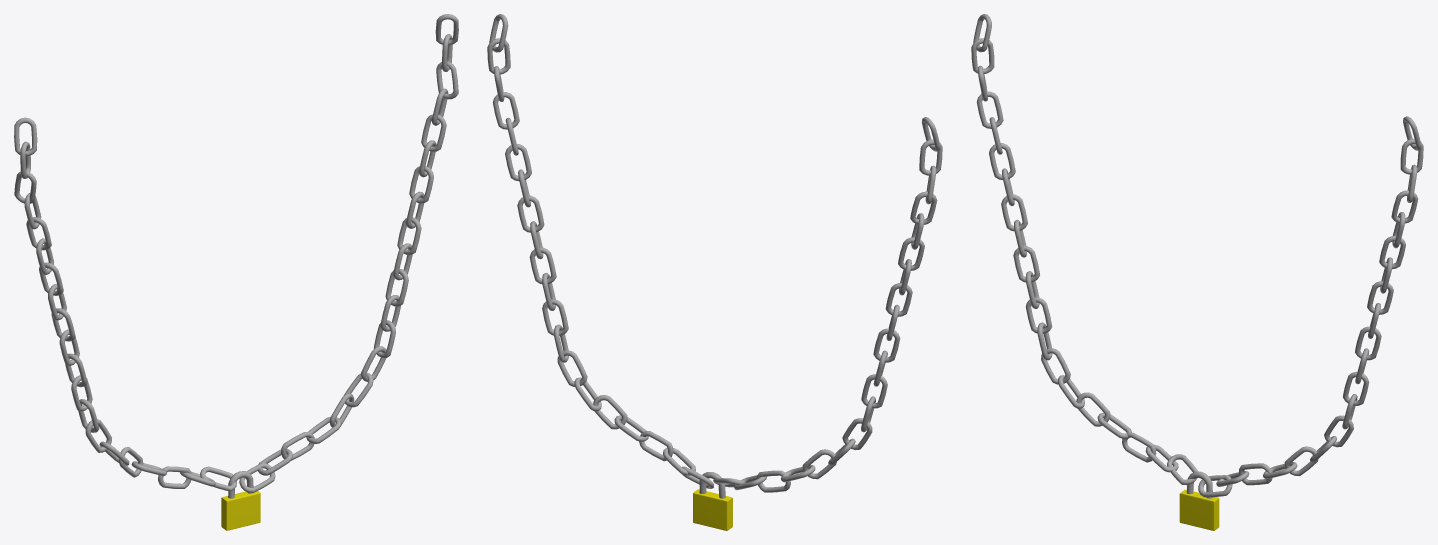
File: WW_LockedOffDoor_Env.fbx
The picture shows the model from 3 angles, left to right: view 1: azimuth 30°, elevation 25°; view 2: azimuth 150°, elevation 25°; view 3: azimuth 330°, elevation 25°; orthographic projection.
Parts seen in each view (by area): view 1: lockbase; view 2: lockbase; view 3: lockbase.
Part boxes in pixels (x1=…): lockbase: x1=221, y1=491, x2=260, y2=530; lockbase: x1=693, y1=489, x2=732, y2=530; lockbase: x1=1179, y1=489, x2=1219, y2=530.
Size of the model in its own units: 127 by 125 by 8.31.
